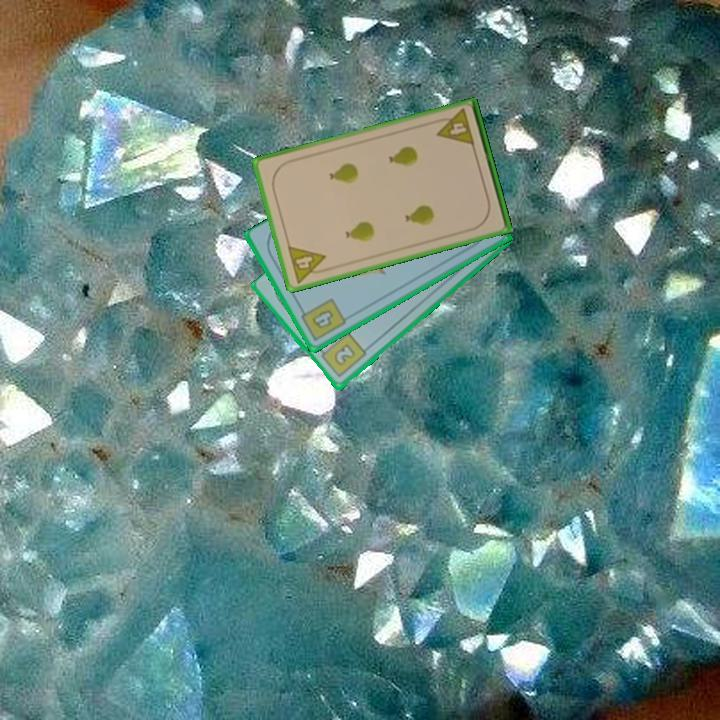2b: (315, 329, 369, 381)
4b: (296, 295, 349, 344)
4p: (284, 242, 332, 286), (431, 105, 477, 149)
